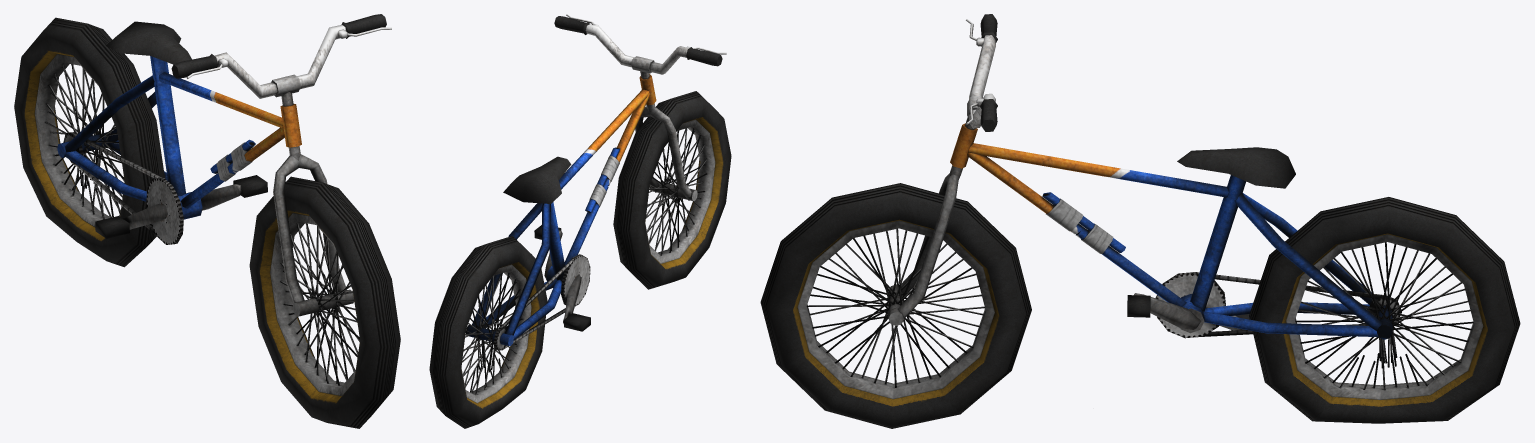
Rendered from MS_Bike2.fbx.
The picture shows the model from 3 angles, left to right: view 1: azimuth 30°, elevation 25°; view 2: azimuth 150°, elevation 25°; view 3: azimuth 270°, elevation 25°; orthographic projection. The views are drawn at different scales.
Parts seen in each view (by area): view 1: polySurface7; view 2: polySurface7; view 3: polySurface7.
Part boxes in pixels (x1,y1,x2,y2): polySurface7: (14,14,400,428); polySurface7: (429,14,731,428); polySurface7: (760,14,1520,428).
Bounding box in the file's own units: 152 × 248 × 464.
